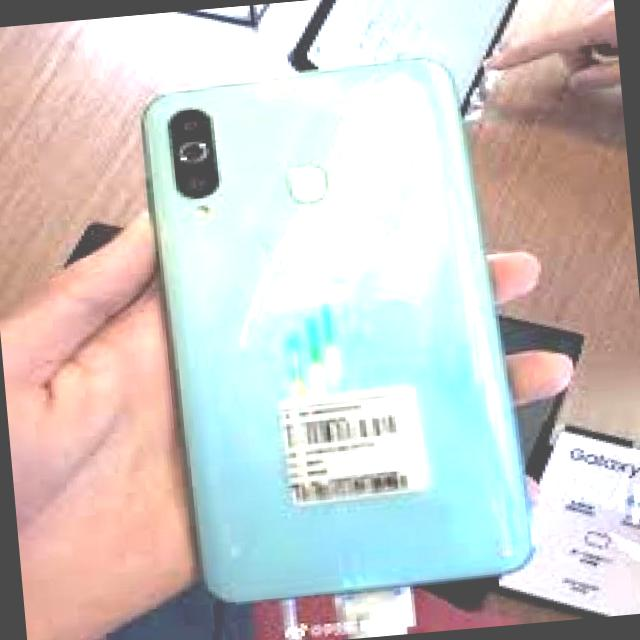lens_back: (174, 136, 216, 174), (176, 114, 214, 142), (180, 172, 217, 198)
phone: (132, 48, 548, 612)
